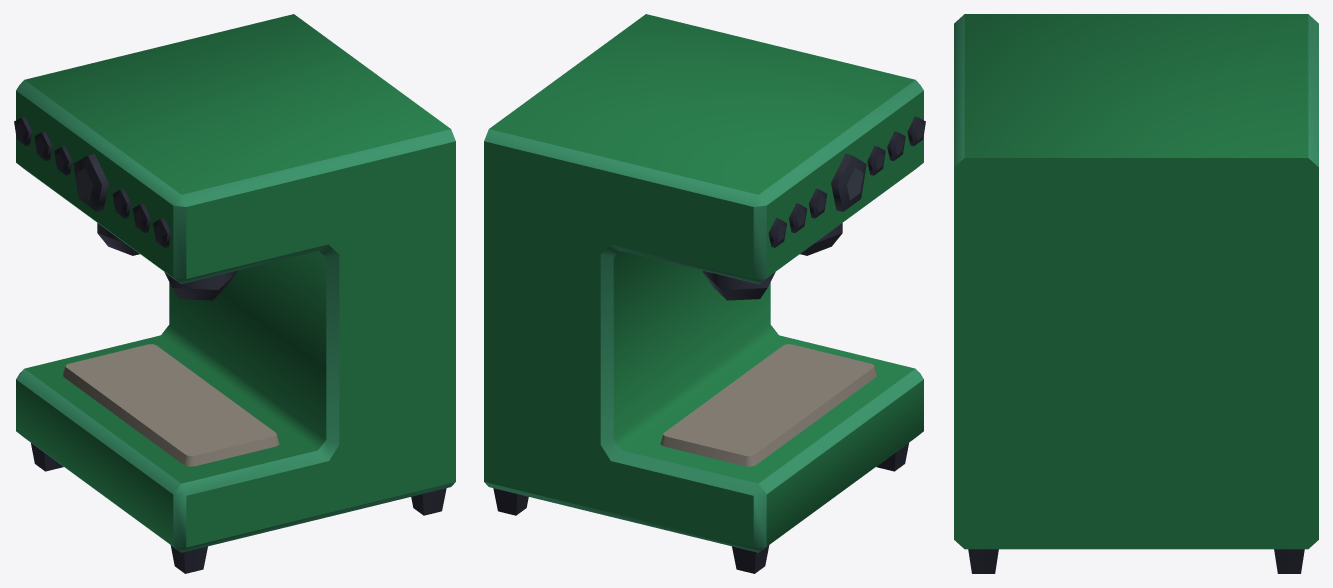
The model's file is CoffeeMachine_1_E.fbx.
3 views of the same model, side by side, from view 1: azimuth 30°, elevation 25°; view 2: azimuth 150°, elevation 25°; view 3: azimuth 270°, elevation 25° (orthographic). The views are drawn at different scales.
Visible parts, largest first — view 1: CoffeeMachine_1_E; view 2: CoffeeMachine_1_E; view 3: CoffeeMachine_1_E.
Boxes of the visible parts, x1,y1,x2,y2 form: CoffeeMachine_1_E: [14, 14, 455, 573]; CoffeeMachine_1_E: [484, 14, 925, 573]; CoffeeMachine_1_E: [954, 14, 1318, 573].
Bounding box in the file's own units: 48.51 × 61.74 × 48.68.
